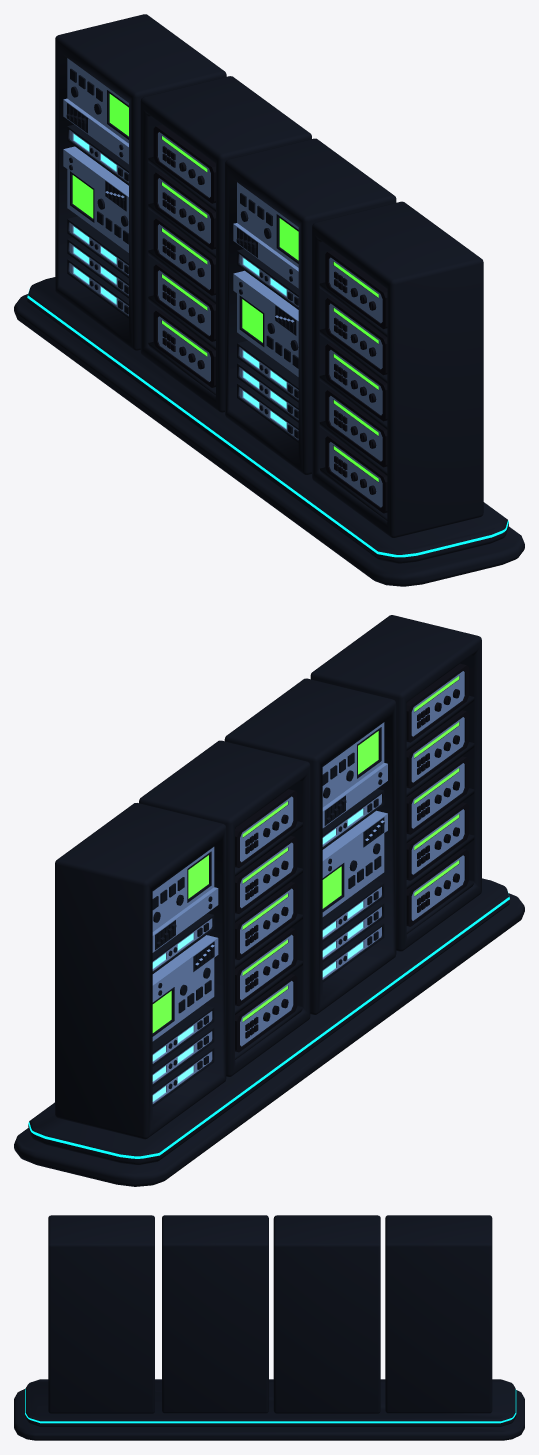
The model's file is Server_machine.fbx.
3 renders of one model, top to bottom at view 1: azimuth 30°, elevation 25°; view 2: azimuth 150°, elevation 25°; view 3: azimuth 270°, elevation 25°, orthographic. The views are drawn at different scales.
Parts seen in each view (by area): view 1: Cube.170.frozen.001; view 2: Cube.170.frozen.001; view 3: Cube.170.frozen.001.
Boxes of the visible parts, x1,y1,x2,y2 form: Cube.170.frozen.001: (14, 14, 524, 586); Cube.170.frozen.001: (14, 615, 524, 1186); Cube.170.frozen.001: (14, 1215, 524, 1440).
Bounding box in the file's own units: 133 × 243 × 595.
